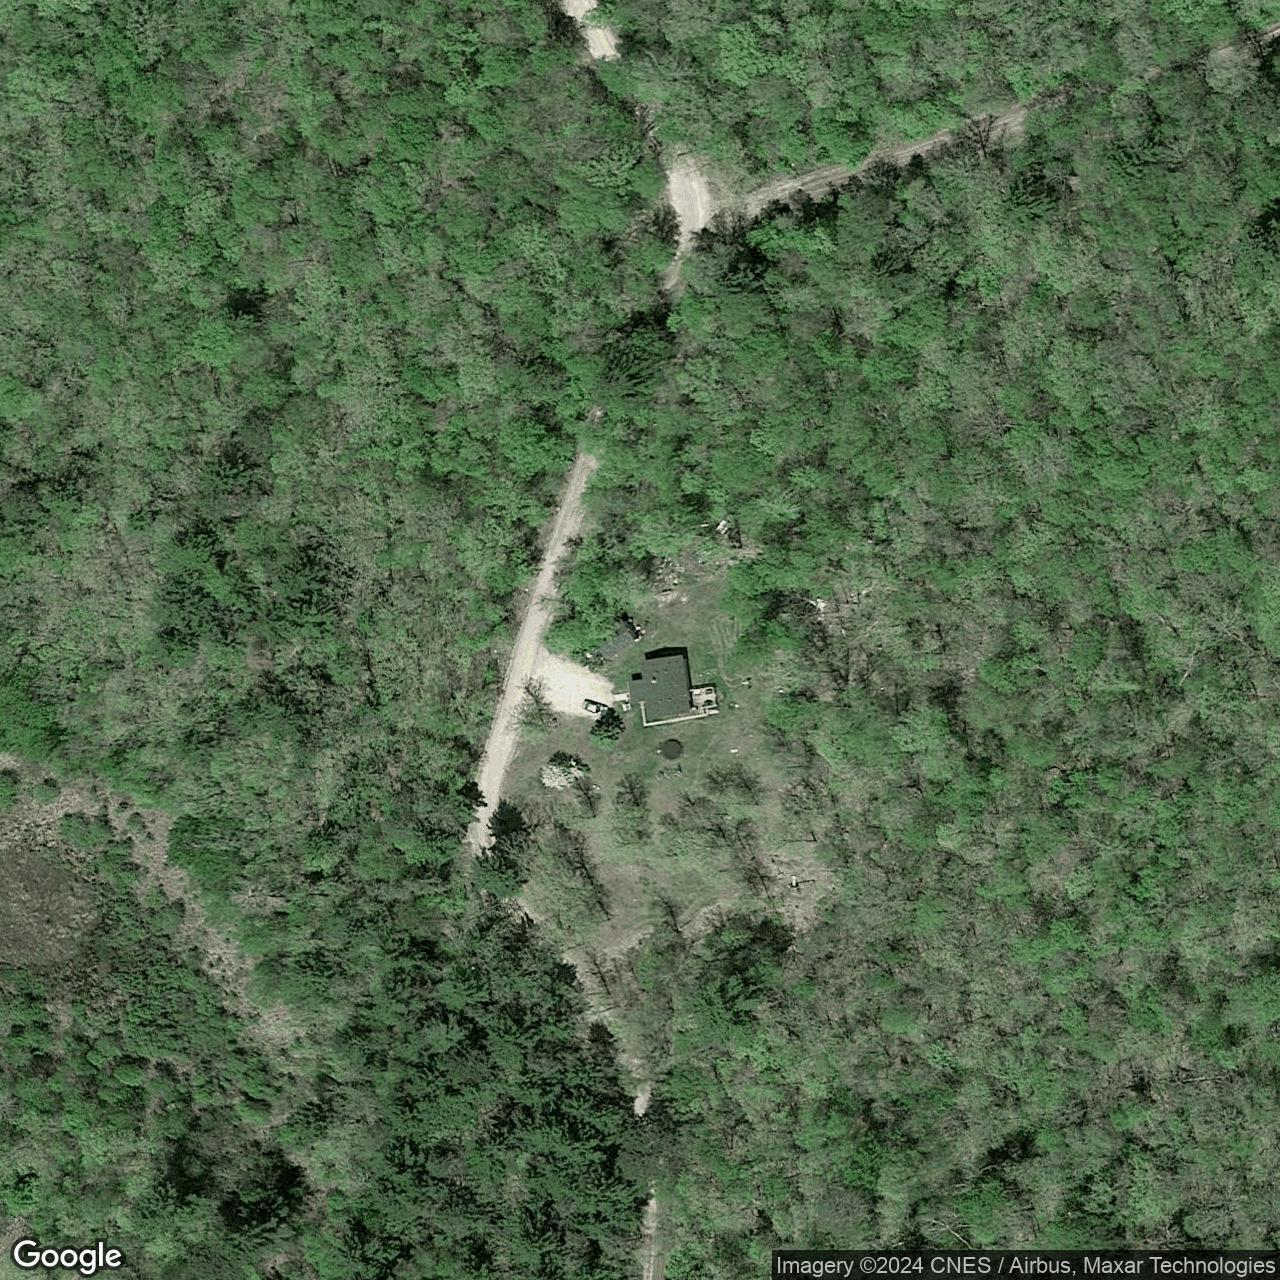House: (626, 654, 693, 721)
